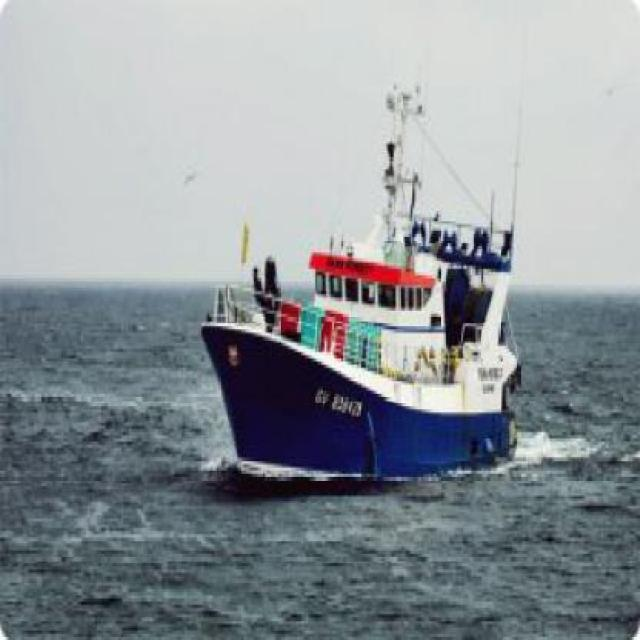fish-b: (186, 53, 546, 491)
